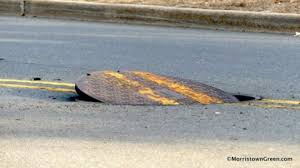Manhole-Open: (75, 57, 268, 118)
